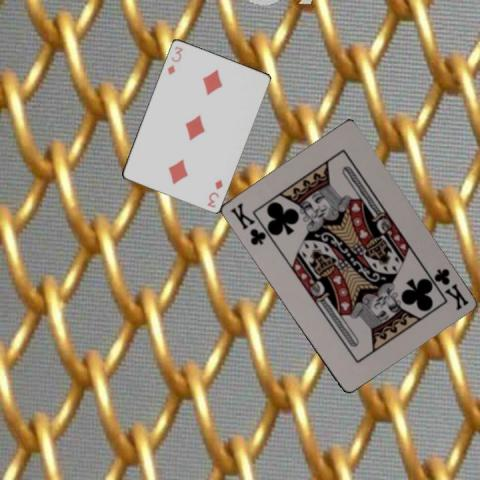3d: (165, 43, 184, 76), (205, 176, 224, 209)
Kc: (226, 200, 266, 248), (430, 265, 470, 312)
